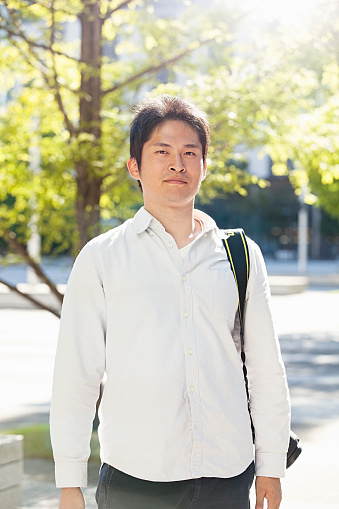em pe: (48, 91, 296, 506)
